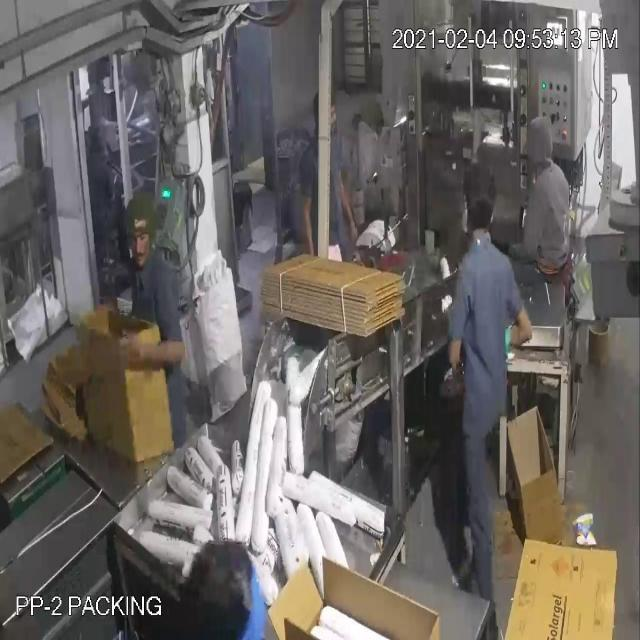No_Gloves: (16, 60, 520, 355)
